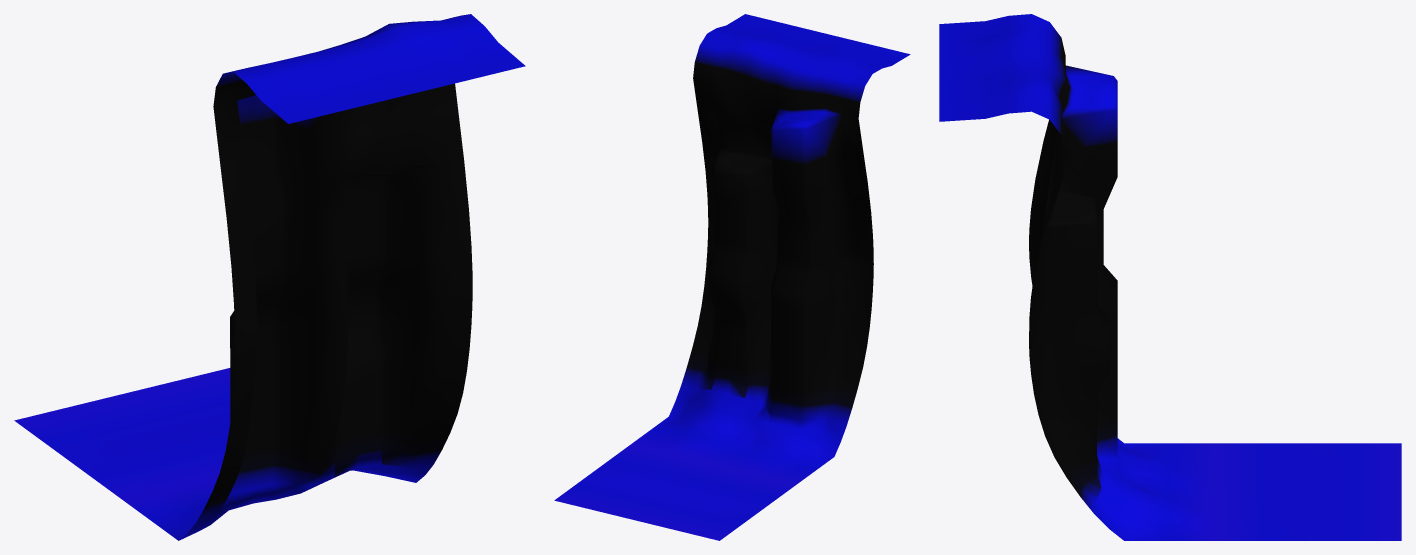
Rendered from WaterFallCliff01D 3M.fbx.
3 renders of one model, left to right at view 1: azimuth 30°, elevation 25°; view 2: azimuth 150°, elevation 25°; view 3: azimuth 270°, elevation 25°, orthographic. The views are drawn at different scales.
Visible parts, largest first — view 1: WaterFallCliff01D 3M; view 2: WaterFallCliff01D 3M; view 3: WaterFallCliff01D 3M.
Boxes of the visible parts, left/top/right/bottom form: WaterFallCliff01D 3M: left=14, top=14, right=525, bottom=540; WaterFallCliff01D 3M: left=554, top=14, right=910, bottom=540; WaterFallCliff01D 3M: left=939, top=14, right=1401, bottom=540.
Bounding box in the file's own units: 1 × 2.07 × 2.
